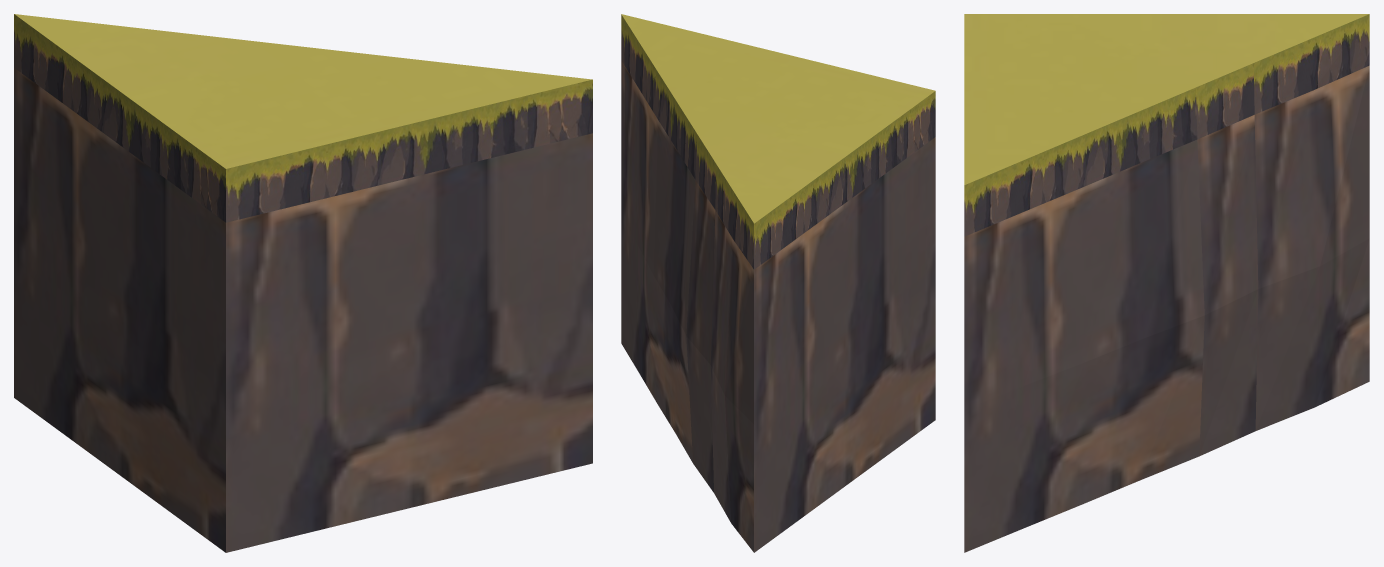
Rendered from SM_RC_Terrain_IslandEdge_45_8m.gltf.
The picture shows the model from 3 angles, left to right: view 1: azimuth 30°, elevation 25°; view 2: azimuth 150°, elevation 25°; view 3: azimuth 270°, elevation 25°; orthographic projection. The views are drawn at different scales.
Parts seen in each view (by area): view 1: SM_RC_Terrain_IslandEdge_45_8m; view 2: SM_RC_Terrain_IslandEdge_45_8m; view 3: SM_RC_Terrain_IslandEdge_45_8m.
Part boxes in pixels (x1,y1,x2,y2): SM_RC_Terrain_IslandEdge_45_8m: (14,14,592,552); SM_RC_Terrain_IslandEdge_45_8m: (621,14,935,552); SM_RC_Terrain_IslandEdge_45_8m: (964,14,1369,552).
Size of the model in its own units: 8 by 8 by 8.
Materials: 1 (1 with a texture image).
